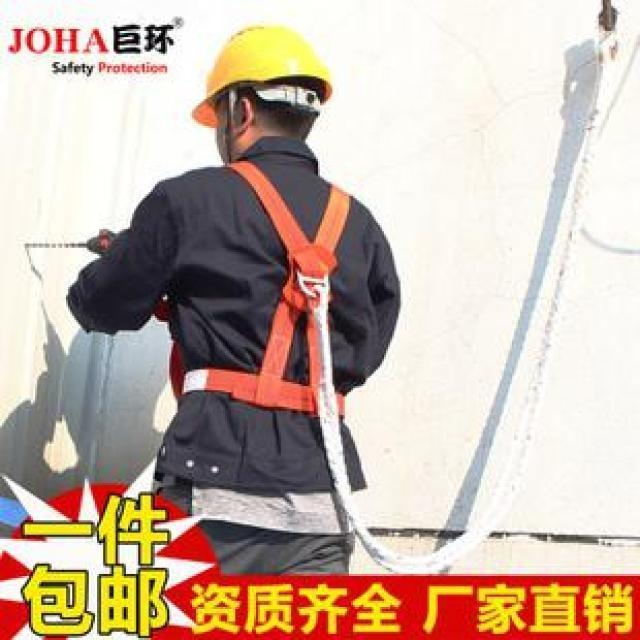Arnes_seguridad: (155, 149, 361, 425)
